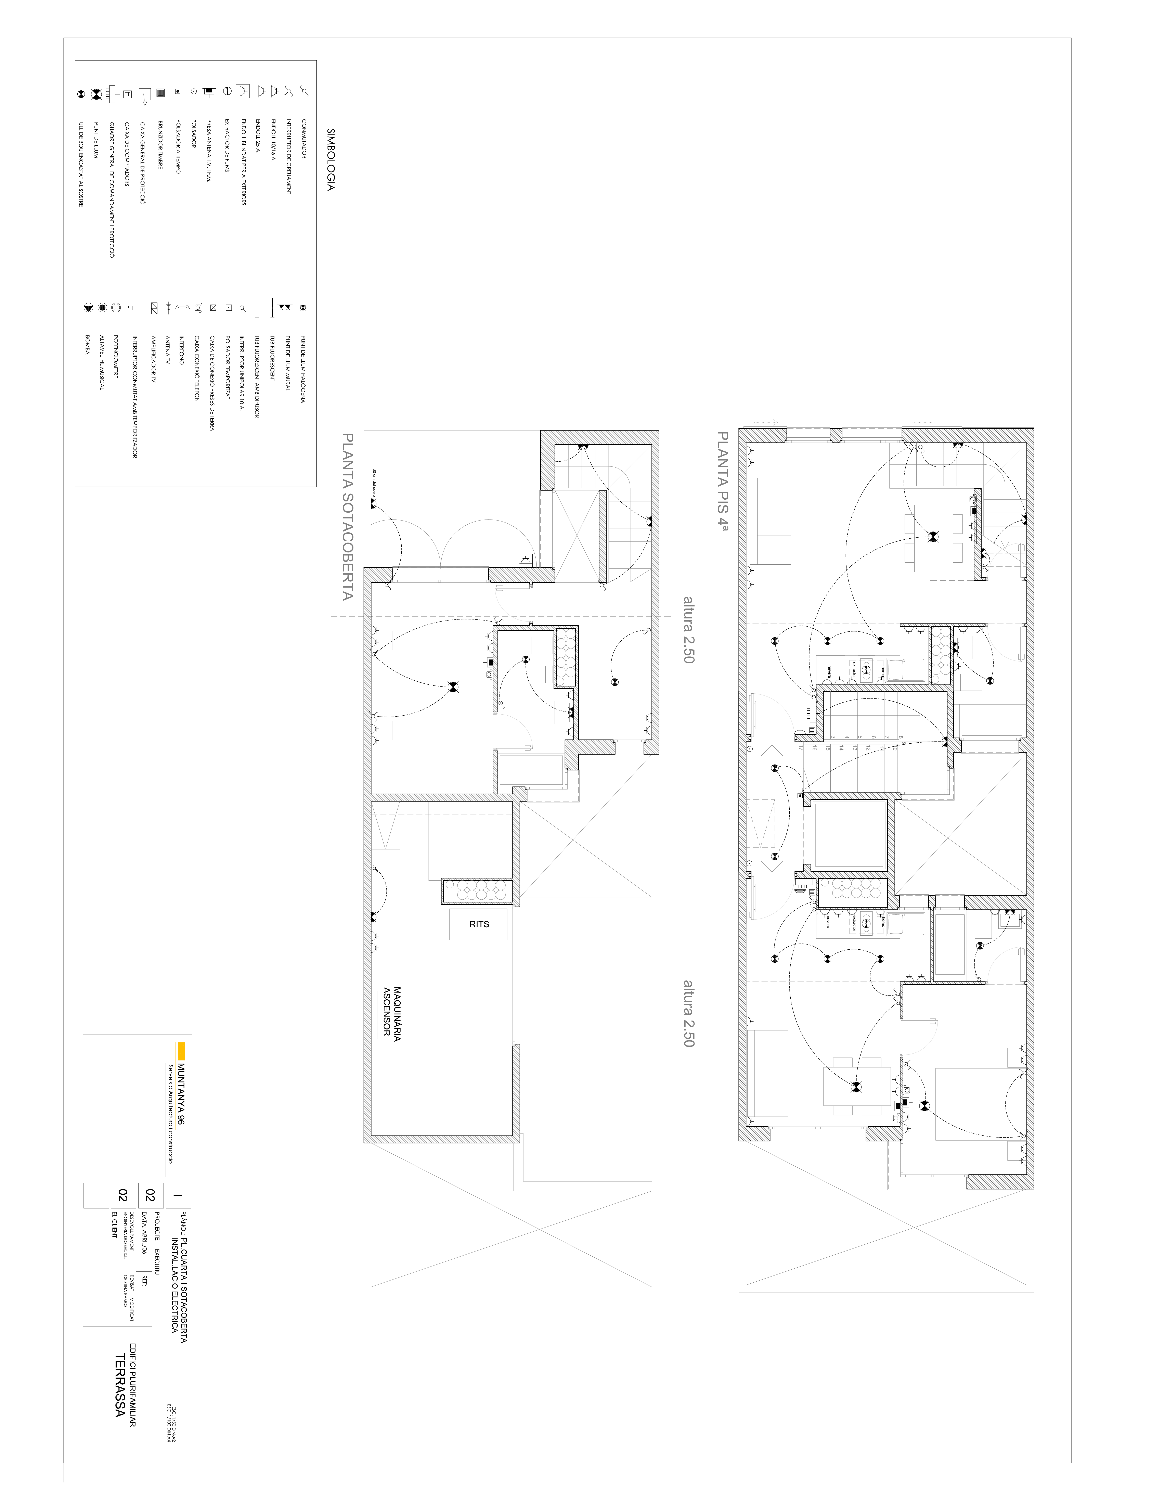door: (984, 946, 1025, 985)
